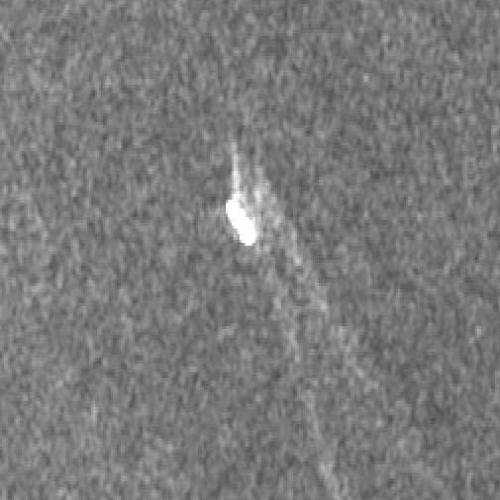ship: (225, 199, 258, 247)
